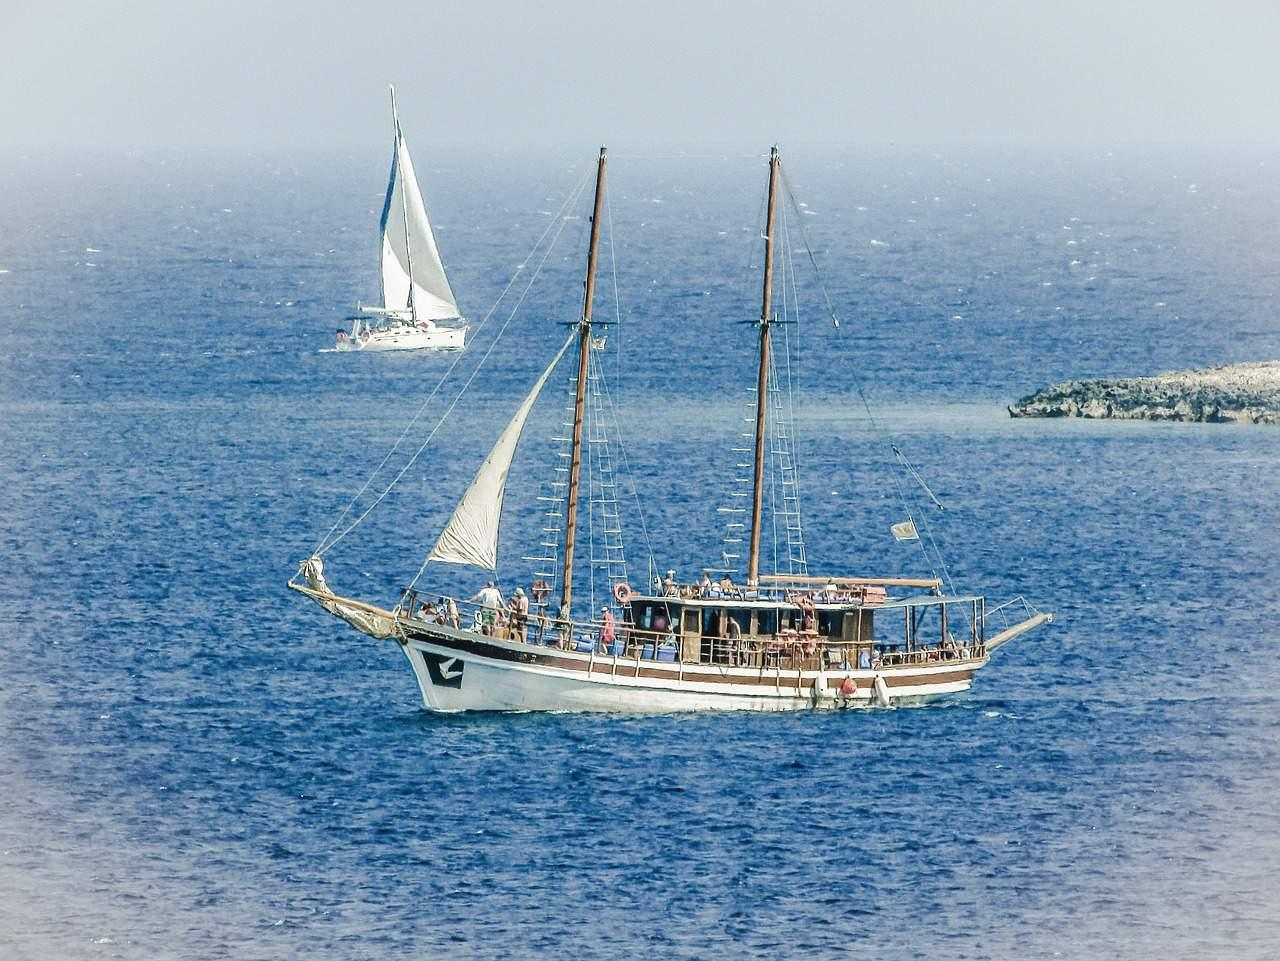Ship: (287, 144, 1058, 718), (317, 93, 470, 359)
